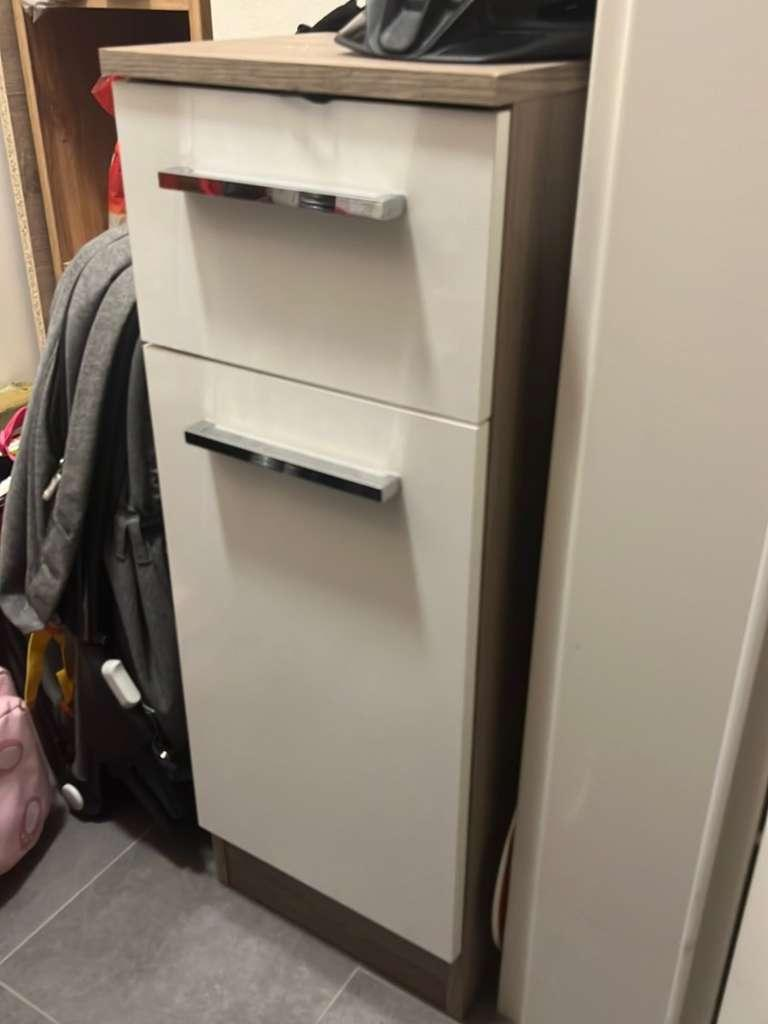cabinet_door: (170, 402, 463, 894), (130, 108, 499, 365)
handle: (149, 150, 417, 239), (183, 415, 410, 514)
